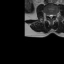CCS_normal: (50, 12, 52, 20)
LFS_normal: (53, 12, 55, 18)
LLS_normal: (52, 12, 53, 18)
RFS_normal: (46, 12, 48, 17)
RLS_normal: (48, 13, 50, 18)
